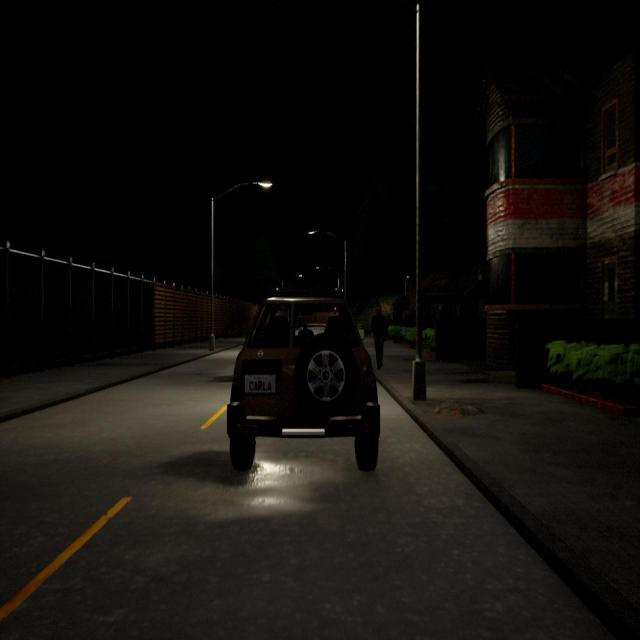Pedestrian: (371, 306, 387, 368)
Vehicle: (227, 297, 379, 470)
traffic_light: (334, 307, 336, 315)
